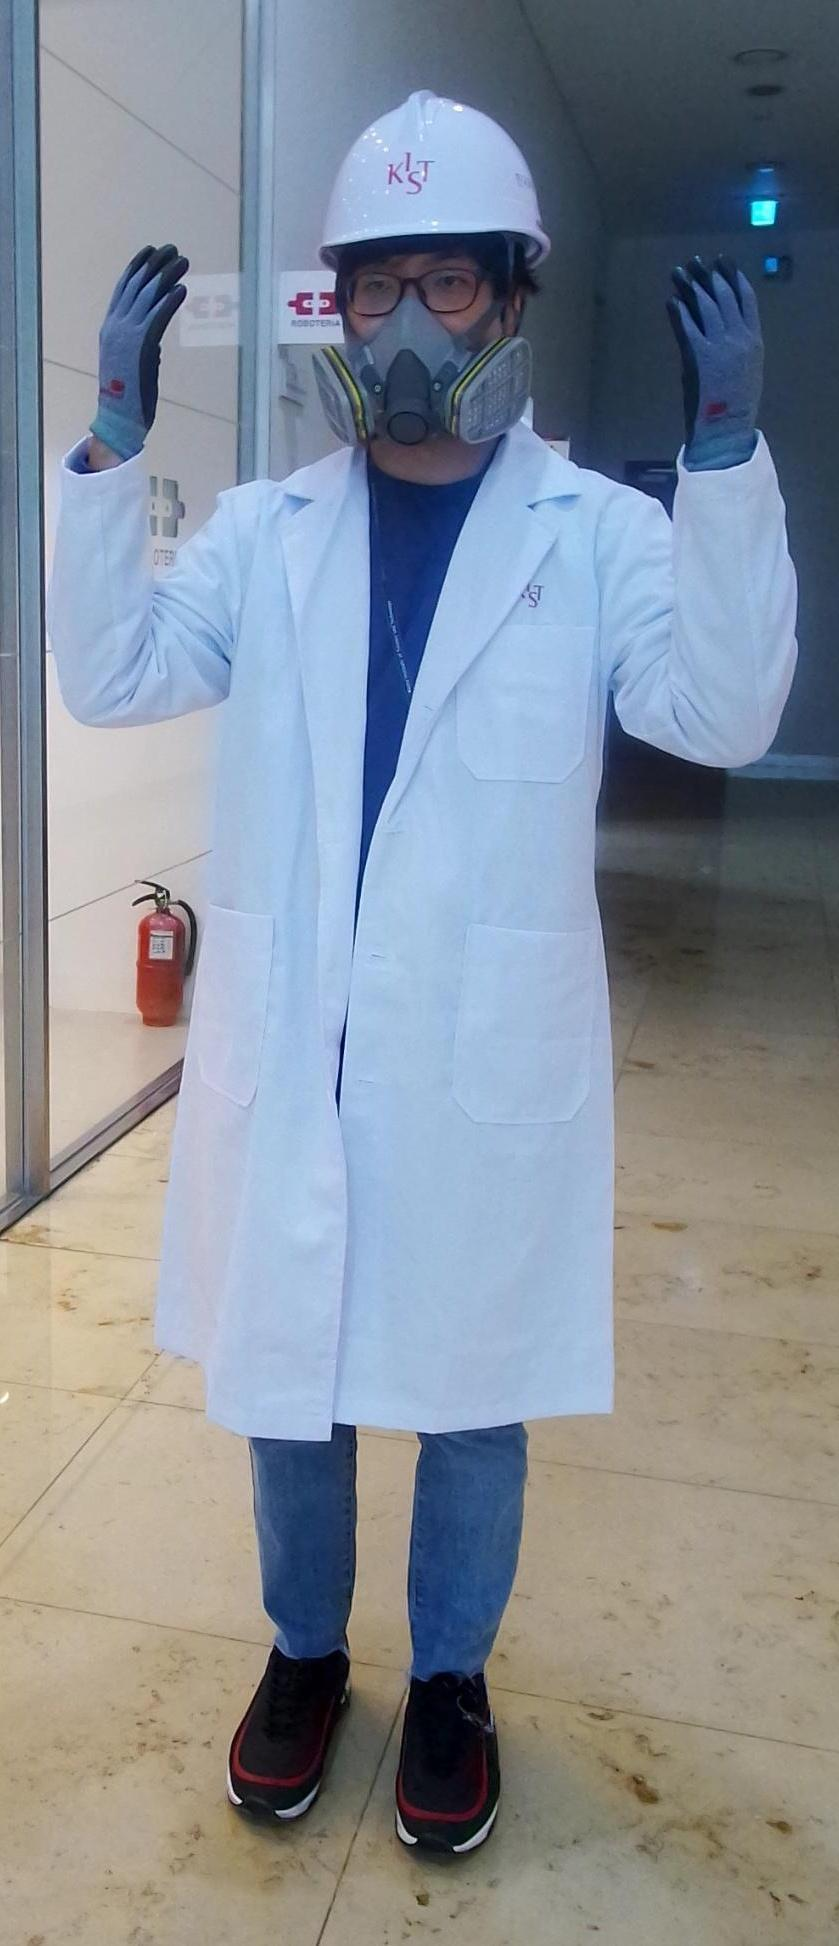lab_coat: (158, 465, 658, 1407)
